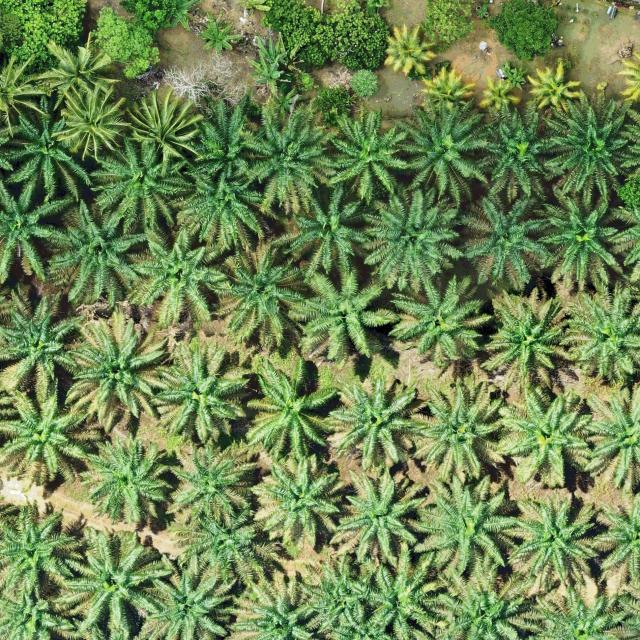Tree: (62, 313, 176, 435), (234, 99, 345, 220), (53, 533, 177, 640), (284, 254, 400, 368), (128, 218, 238, 332), (198, 235, 308, 347), (418, 472, 522, 588), (46, 197, 150, 310), (538, 84, 640, 198), (408, 375, 513, 483), (462, 96, 566, 205), (0, 377, 105, 484), (156, 339, 254, 450), (394, 102, 496, 208), (363, 185, 464, 292), (347, 540, 453, 640), (482, 291, 580, 398), (427, 555, 550, 640), (325, 373, 431, 471), (167, 158, 275, 253), (498, 386, 598, 488), (0, 102, 97, 206), (248, 455, 349, 554), (246, 359, 341, 464), (79, 432, 175, 529), (335, 468, 432, 564), (92, 139, 192, 232), (262, 0, 392, 71), (537, 191, 623, 298), (462, 192, 551, 294), (389, 274, 494, 360), (507, 497, 601, 593), (0, 278, 89, 378), (0, 175, 74, 289), (165, 438, 258, 528), (148, 557, 246, 640), (330, 111, 412, 209), (284, 188, 372, 273), (223, 570, 329, 640), (0, 508, 83, 597), (568, 287, 640, 388), (170, 508, 265, 584), (186, 94, 265, 178), (526, 581, 638, 640), (0, 0, 88, 75), (585, 382, 640, 495), (125, 89, 203, 168), (0, 570, 84, 640), (304, 554, 372, 634), (92, 4, 162, 80), (43, 42, 117, 113), (59, 87, 129, 161), (596, 492, 640, 598), (485, 0, 559, 63), (0, 52, 54, 136), (245, 32, 303, 92), (526, 58, 582, 116), (416, 63, 476, 114), (383, 21, 436, 78), (422, 0, 476, 51), (198, 14, 242, 54), (617, 44, 640, 112), (477, 77, 518, 113), (348, 68, 380, 100), (170, 0, 204, 30), (233, 0, 273, 17)
